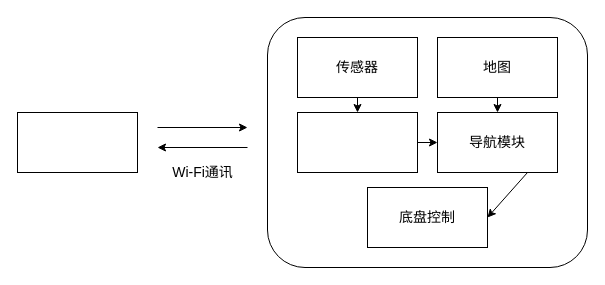
Image size: 605x285. Some labels were removed from this diagram. The shapes that lost their labels are listed below. From the top down, each one's centre as x and y in pixels, then its label:
the point at 77,142: 远程计算机
the point at 357,142: 定位模块
